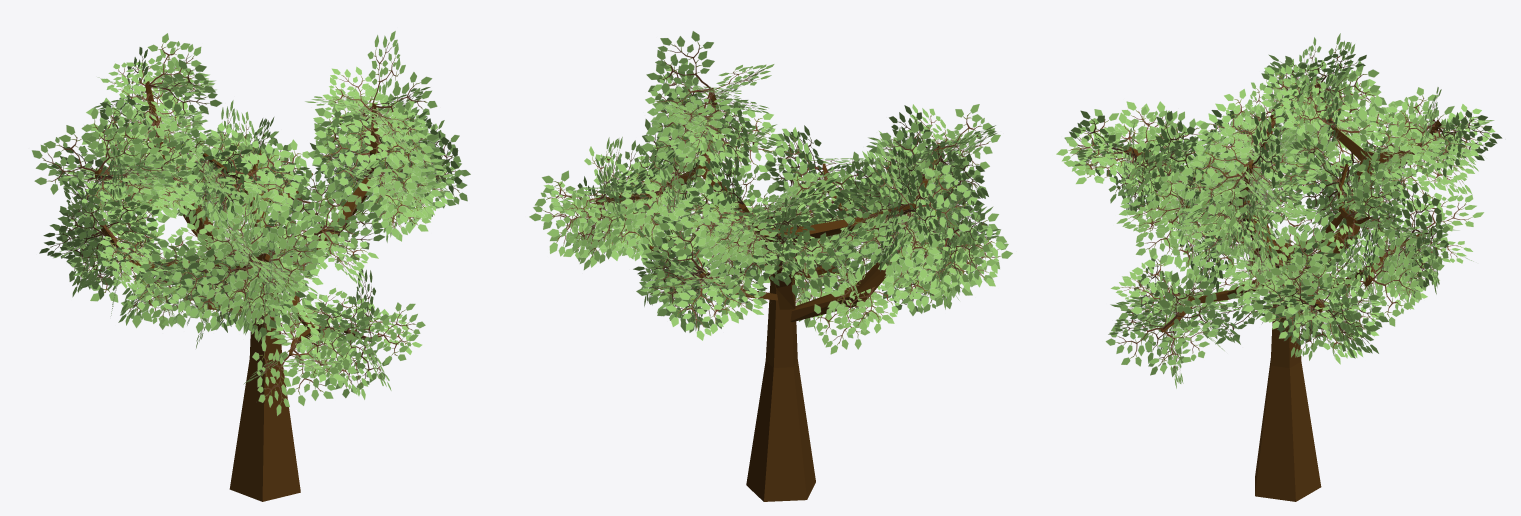
3 renders of one model, left to right at view 1: azimuth 30°, elevation 25°; view 2: azimuth 150°, elevation 25°; view 3: azimuth 270°, elevation 25°, orthographic. The views are drawn at different scales.
Parts seen in each view (by area): view 1: Tree_green01_Cube.007; view 2: Tree_green01_Cube.007; view 3: Tree_green01_Cube.007.
Boxes of the visible parts, x1,y1,x2,y2 form: Tree_green01_Cube.007: [31, 30, 470, 501]; Tree_green01_Cube.007: [529, 31, 1012, 501]; Tree_green01_Cube.007: [1056, 33, 1502, 501].
Bounding box in the file's own units: 14.11 × 13.16 × 12.32.
Materials: 2 (1 with a texture image).
